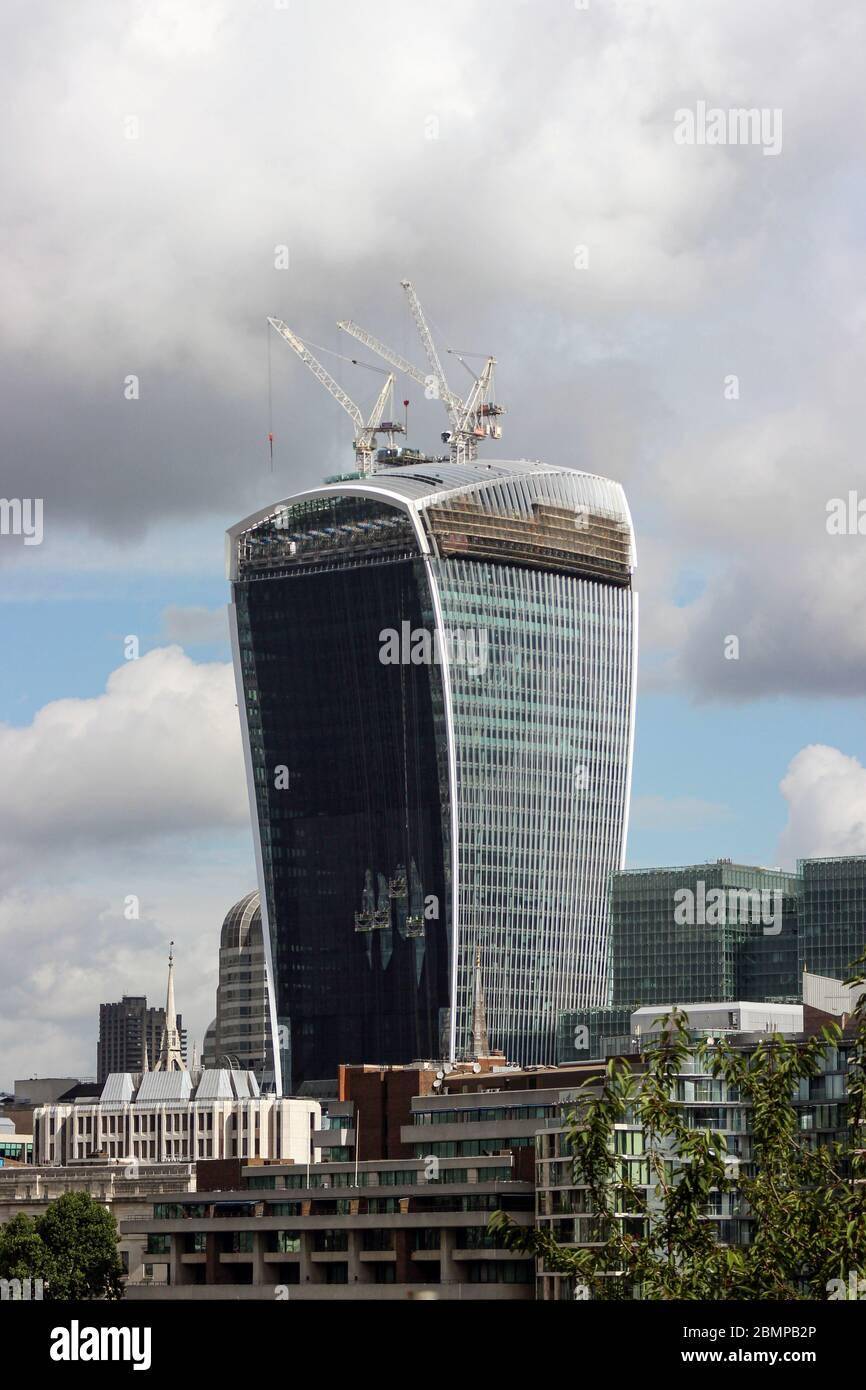Walkie talkie: (200, 330, 656, 1052)
